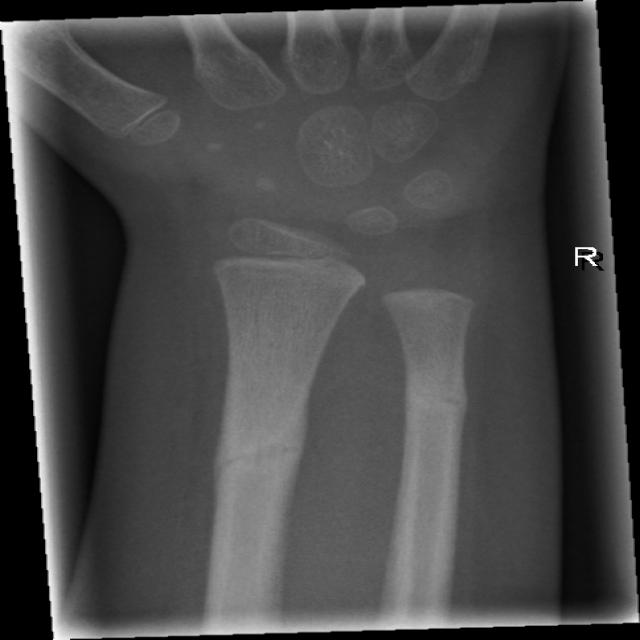radius fracture: (183, 368, 324, 539)
ulna fracture: (384, 353, 484, 474)
